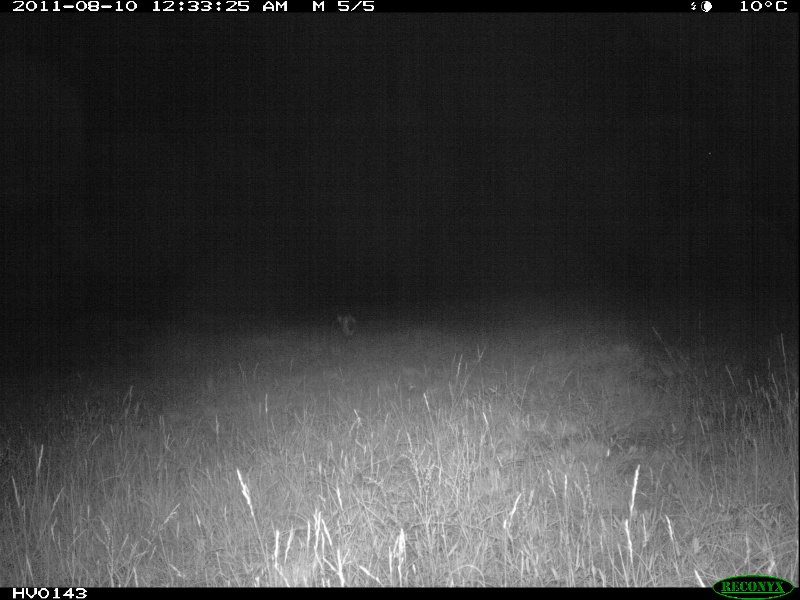fox: (336, 313, 360, 337)
